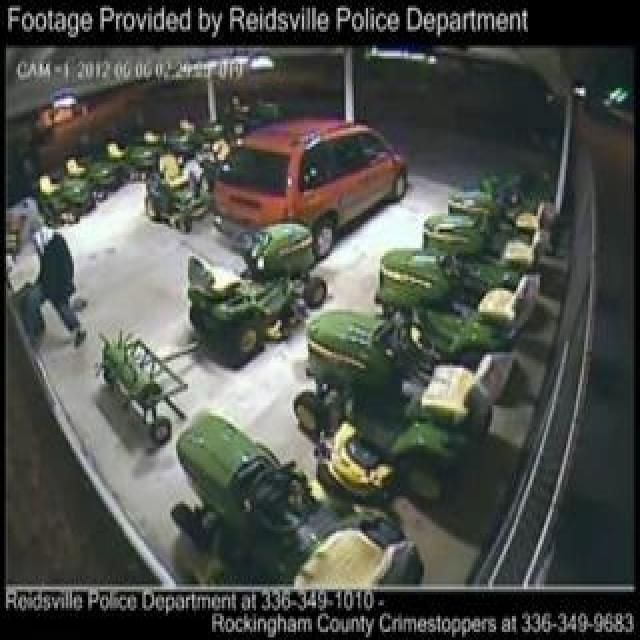thief: (21, 206, 87, 329)
